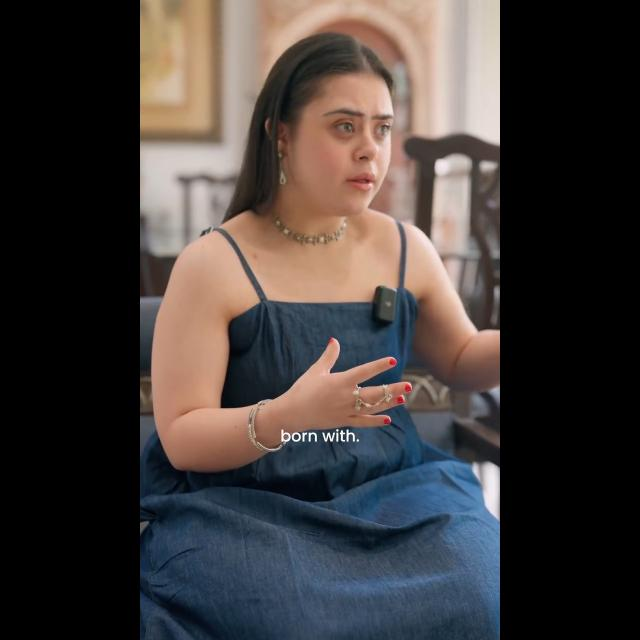dress: (148, 218, 492, 640)
ear ring: (275, 142, 289, 188)
